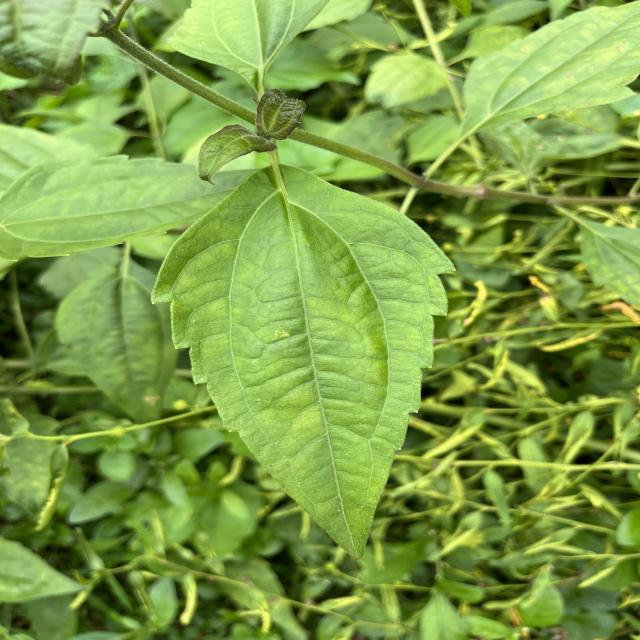Chromolaena odorata: (146, 150, 462, 566)
